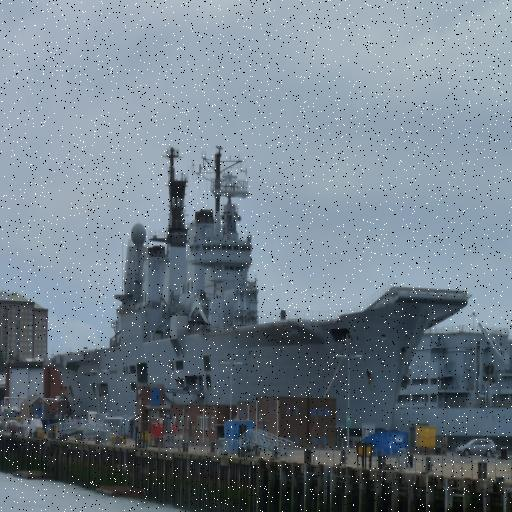Portanaves: (31, 126, 474, 456)
